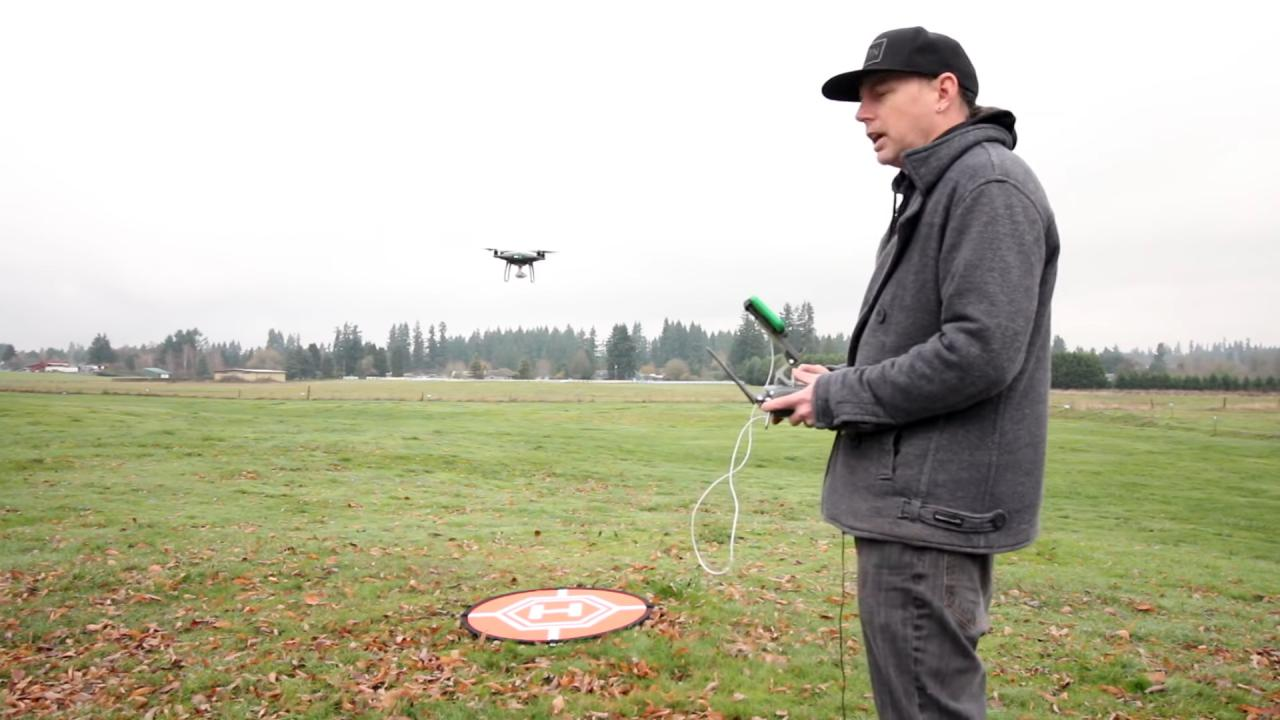Drone: (474, 238, 560, 290)
